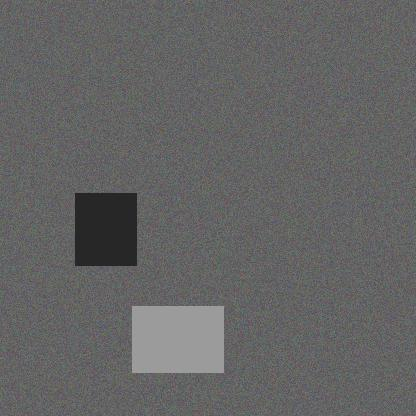empty: (190, 176, 251, 255), (120, 230, 203, 273)
